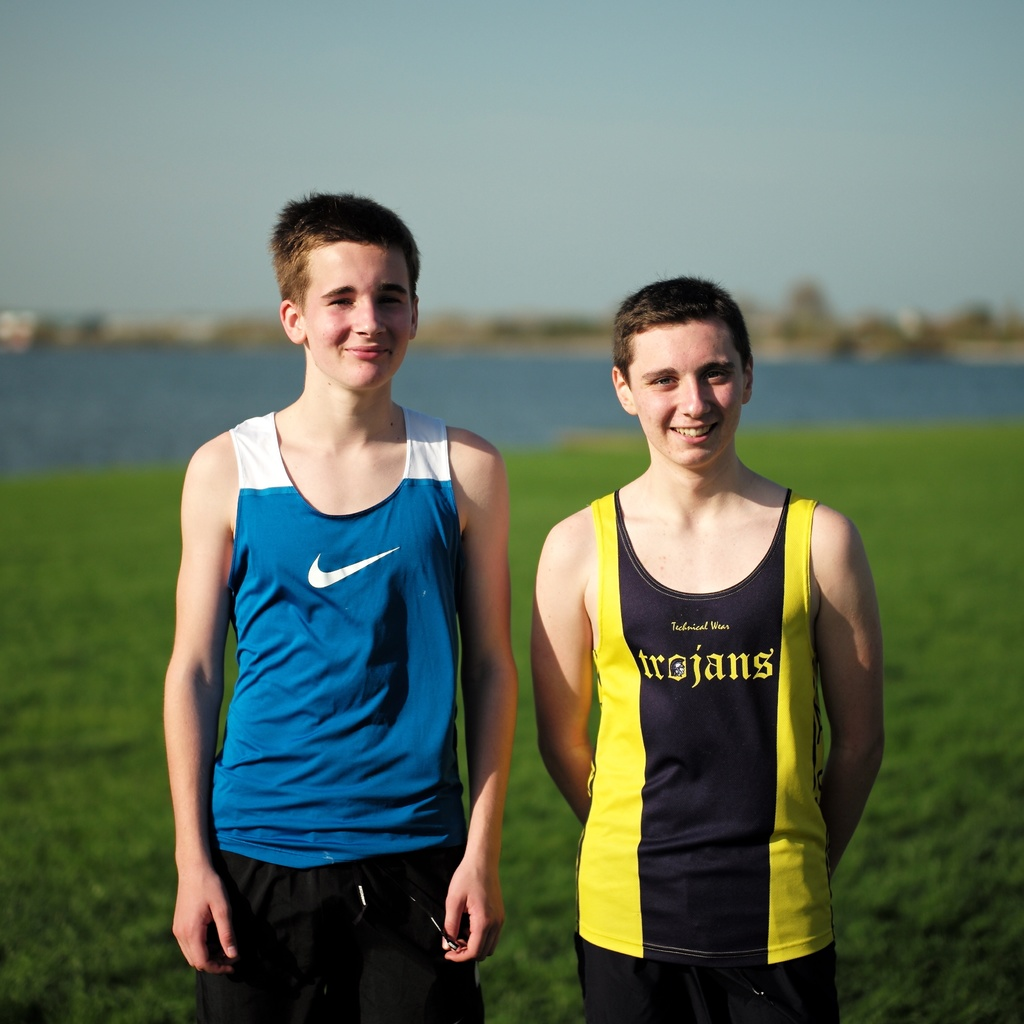face: (267, 199, 430, 396), (607, 285, 763, 468)
